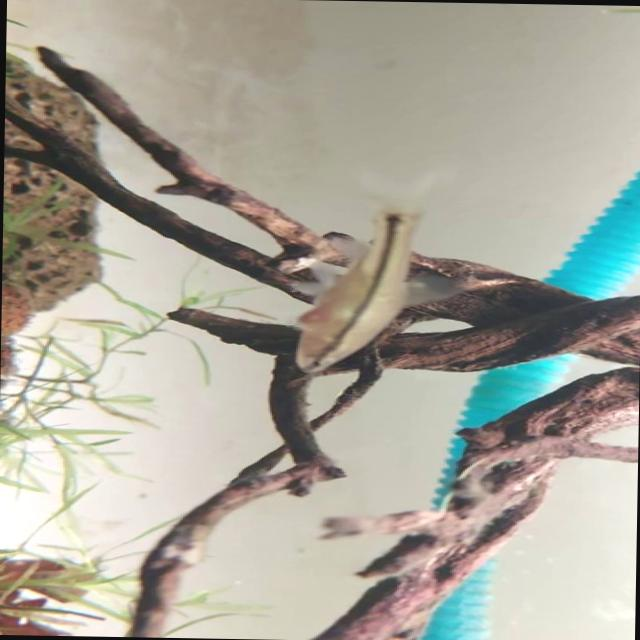Cakil Baligi: (294, 182, 488, 378)
